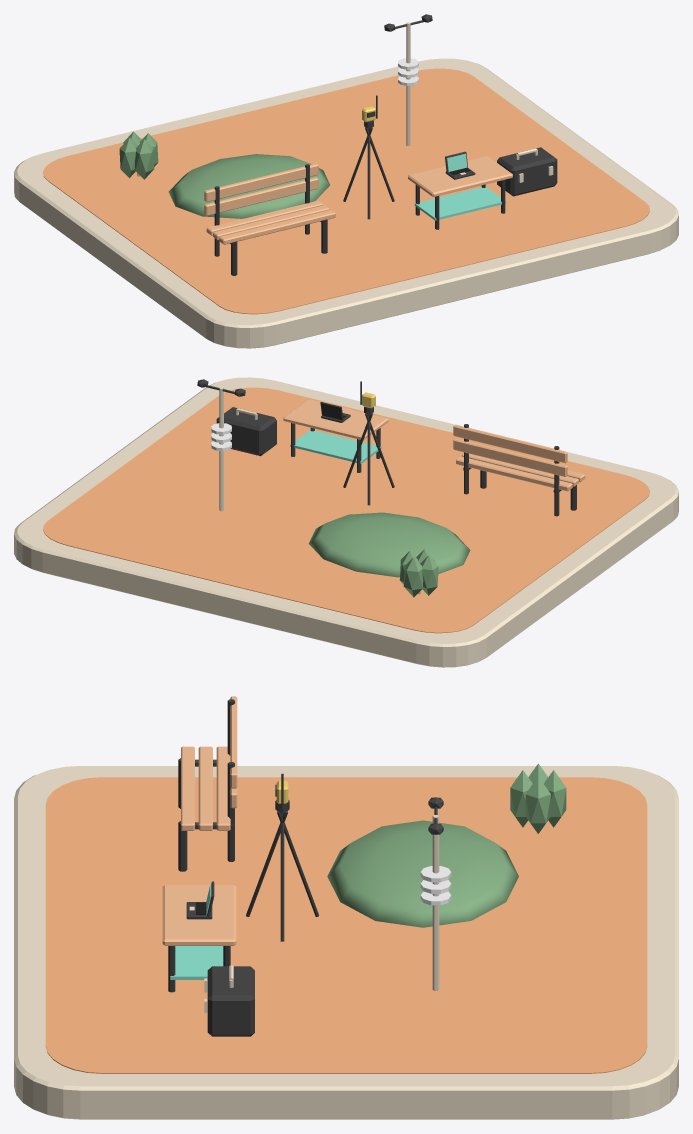
The model's file is room.fbx.
The picture shows the model from 3 angles, top to bottom: view 1: azimuth 30°, elevation 25°; view 2: azimuth 150°, elevation 25°; view 3: azimuth 270°, elevation 25°; orthographic projection. The views are drawn at different scales.
Visible parts, largest first — view 1: COM-02 Floor Surface, COM-01 Rounded Base Direct, Low terrain, Worktop, Case, Lower shelf, Back slat, Back slat.001, Seat slat, Seat slat.002, Seat slat.001, Leaf.003 (+2 smaller); view 2: COM-02 Floor Surface, COM-01 Rounded Base Direct, Low terrain, Worktop, Case, Lower shelf, Back slat, Back slat.001, Seat slat.002, Seat slat.001, Leaf.001, Mast (+1 smaller); view 3: COM-02 Floor Surface, COM-01 Rounded Base Direct, Low terrain, Worktop, Case, Lower shelf, Seat slat.001, Seat slat, Mast, Seat slat.002, Leaf, Leaf.001 (+2 smaller).
Boxes of the visible parts, bbox=[...] form: COM-02 Floor Surface: bbox=[43, 68, 649, 314]; COM-01 Rounded Base Direct: bbox=[14, 58, 678, 348]; Low terrain: bbox=[168, 154, 329, 218]; Worktop: bbox=[408, 156, 512, 196]; Case: bbox=[497, 147, 557, 196]; Lower shelf: bbox=[414, 186, 505, 220]; Back slat: bbox=[204, 177, 318, 215]; Back slat.001: bbox=[204, 163, 318, 201]; Seat slat: bbox=[219, 210, 335, 244]; Seat slat.002: bbox=[206, 200, 323, 235]; Seat slat.001: bbox=[213, 205, 329, 239]; Leaf.003: bbox=[135, 139, 154, 179]; COM-02 Floor Surface: bbox=[43, 387, 649, 633]; COM-01 Rounded Base Direct: bbox=[14, 377, 678, 667]; Low terrain: bbox=[309, 512, 470, 577]; Worktop: bbox=[283, 399, 388, 439]; Case: bbox=[216, 407, 276, 456]; Lower shelf: bbox=[290, 430, 381, 463]; Back slat: bbox=[453, 438, 567, 476]; Back slat.001: bbox=[453, 424, 567, 463]; Seat slat.002: bbox=[456, 456, 572, 491]; Seat slat.001: bbox=[462, 453, 578, 486]; Leaf.001: bbox=[403, 557, 423, 597]; Mast: bbox=[219, 387, 223, 511]; COM-02 Floor Surface: bbox=[45, 777, 647, 1073]; COM-01 Rounded Base Direct: bbox=[14, 766, 678, 1119]; Low terrain: bbox=[327, 820, 518, 927]; Worktop: bbox=[162, 885, 236, 945]; Case: bbox=[207, 966, 254, 1036]; Lower shelf: bbox=[170, 946, 223, 979]; Seat slat.001: bbox=[198, 746, 212, 830]; Seat slat: bbox=[181, 746, 194, 830]; Mast: bbox=[432, 815, 439, 990]; Seat slat.002: bbox=[216, 746, 230, 830]; Leaf: bbox=[525, 776, 550, 833]; Leaf.001: bbox=[544, 770, 566, 827].
Bounding box in the file's own units: 600 × 185 × 520.
